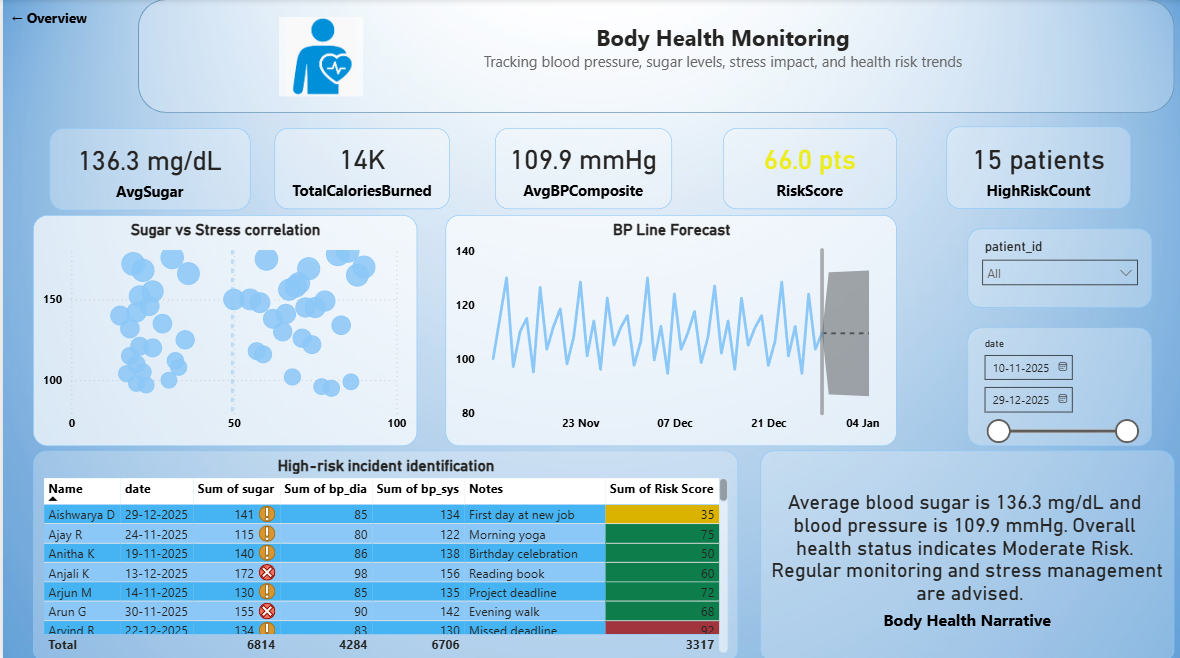

The page's visual inventory and layout, read from the dashboard file:
{"tool":"powerbi","page":{"name":"body_health_monitoring","canvas":[1280,720],"ordinal":3},"visuals":[{"type":"card","fields":{"Values":["Health_Metrics (2).AvgSugar_mgdl"]},"box":[50.4,139.9,218,89.5],"z":0},{"type":"card","fields":{"Values":["Health_Metrics (2).Avg_BP_Composite"]},"box":[533.5,139.9,191.9,87.8],"z":1000},{"type":"card","fields":{"Values":["Health_Metrics (2).RiskScoreWithUnits"]},"box":[780.7,139.9,188.7,87.8],"z":2000},{"type":"card","fields":{"Values":["Health_Metrics (2).High_Risk_Count_Display"]},"box":[1023.1,138.3,200.1,89.5],"z":3000},{"type":"card","fields":{"Values":["Health_Metrics (2).TotalCaloriesBurned"]},"box":[294.4,139.9,190.3,87.8],"z":4000},{"type":"lineChart","title":"BP Line Forecast ","fields":{"Category":["Health_Metrics (2).date"],"Y":["Health_Metrics (2).AvgBPComposite"]},"box":[479.8,234.2,489.6,250.5],"z":5000},{"type":"tableEx","title":"High-risk incident identification","fields":{"Values":["Patients.Name","Health_Metrics (2).date","Sum(Health_Metrics (2).sugar)","Sum(Health_Metrics (2).bp_dia)","Sum(Health_Metrics (2).bp_sys)","Mood_Stress_Log.Notes","Sum(Patients.Risk Score)"]},"box":[32.5,489.6,764.5,231],"z":6000},{"type":"scatterChart","title":"Sugar vs Stress correlation","fields":{"Category":["Health_Metrics (2).date"],"X":["Avg(Mood_Stress_Log.Stress Level)"],"Y":["Health_Metrics (2).AvgSugar"],"Size":["Sum(Health_Metrics (2).calories_burned)"]},"box":[32.5,234.2,416.4,250.5],"z":7000},{"type":"shape","box":[146.4,0,1123.9,123.6],"z":8000},{"type":"image","box":[299.3,19.5,91.1,86.2],"z":9000},{"type":"card","fields":{"Values":["Health_Metrics (2).BodyHealth_Narrative"]},"box":[821.4,489.6,448.9,231],"z":10000},{"type":"slicer","fields":{"Values":["Health_Metrics (2).patient_id"]},"box":[1045.9,248.9,200.1,86.2],"z":11000},{"type":"slicer","fields":{"Values":["Health_Metrics (2).date"]},"box":[1045.9,356.2,200.1,128.5],"z":12000},{"type":"actionButton","box":[0,0,100,40],"z":13000},{"type":"textbox","box":[414.8,19.5,731.9,92.7],"z":14000}]}

Visuals, with their boxes in screenshot pixels (x1, y1, x2, y2), scaled from the page's 1280x720 canvas onto the 1180x658 screenshot:
card - Health_Metrics (2).AvgSugar_mgdl: (x1=46, y1=128, x2=247, y2=210)
card - Health_Metrics (2).Avg_BP_Composite: (x1=492, y1=128, x2=669, y2=208)
card - Health_Metrics (2).RiskScoreWithUnits: (x1=720, y1=128, x2=894, y2=208)
card - Health_Metrics (2).High_Risk_Count_Display: (x1=943, y1=126, x2=1128, y2=208)
card - Health_Metrics (2).TotalCaloriesBurned: (x1=271, y1=128, x2=447, y2=208)
"BP Line Forecast " lineChart: (x1=442, y1=214, x2=894, y2=443)
"High-risk incident identification" tableEx: (x1=30, y1=447, x2=735, y2=657)
"Sugar vs Stress correlation" scatterChart: (x1=30, y1=214, x2=414, y2=443)
shape: (x1=135, y1=0, x2=1171, y2=113)
image: (x1=276, y1=18, x2=360, y2=97)
card - Health_Metrics (2).BodyHealth_Narrative: (x1=757, y1=447, x2=1171, y2=657)
slicer - Health_Metrics (2).patient_id: (x1=964, y1=227, x2=1149, y2=306)
slicer - Health_Metrics (2).date: (x1=964, y1=326, x2=1149, y2=443)
actionButton: (x1=0, y1=0, x2=92, y2=37)
textbox: (x1=382, y1=18, x2=1057, y2=103)
